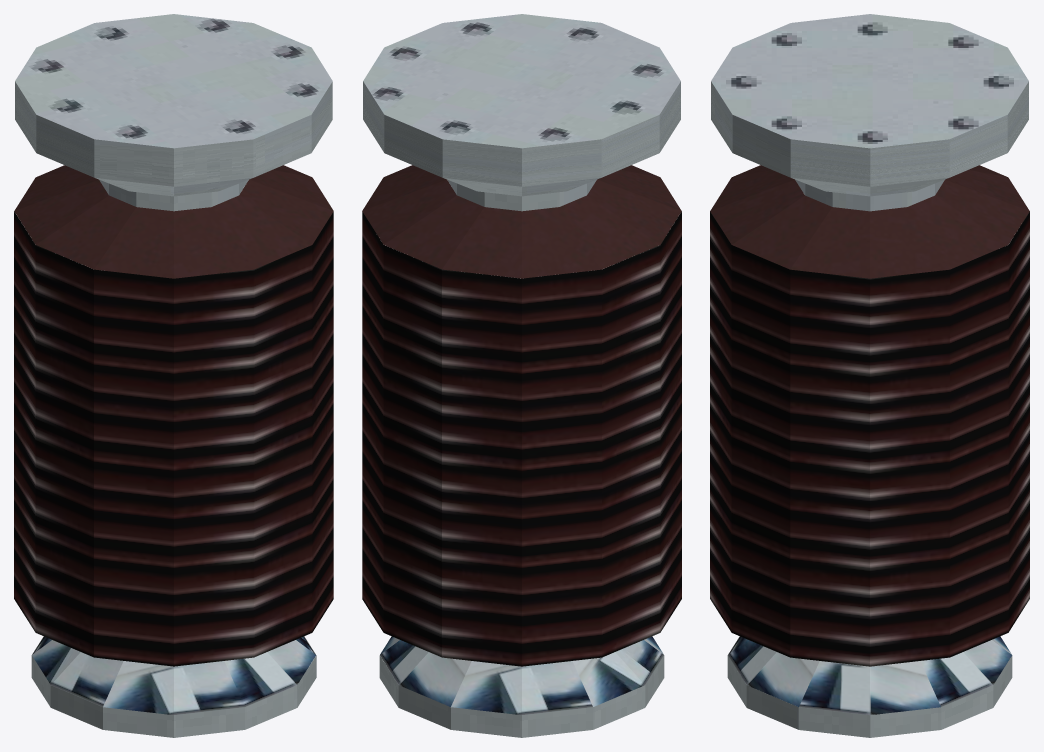
The model's file is jyz408-geode.glb.
3 views of the same model, side by side, from view 1: azimuth 30°, elevation 25°; view 2: azimuth 150°, elevation 25°; view 3: azimuth 270°, elevation 25° (orthographic).
Visible parts, largest first — view 1: Node; view 2: Node; view 3: Node.
Boxes of the visible parts, <box> form: Node: <box>14,14,333,737</box>; Node: <box>362,14,681,737</box>; Node: <box>710,14,1029,737</box>.
Size of the model in its own units: 0.1671 by 0.344 by 0.1671.
5 materials, 5 textured.
